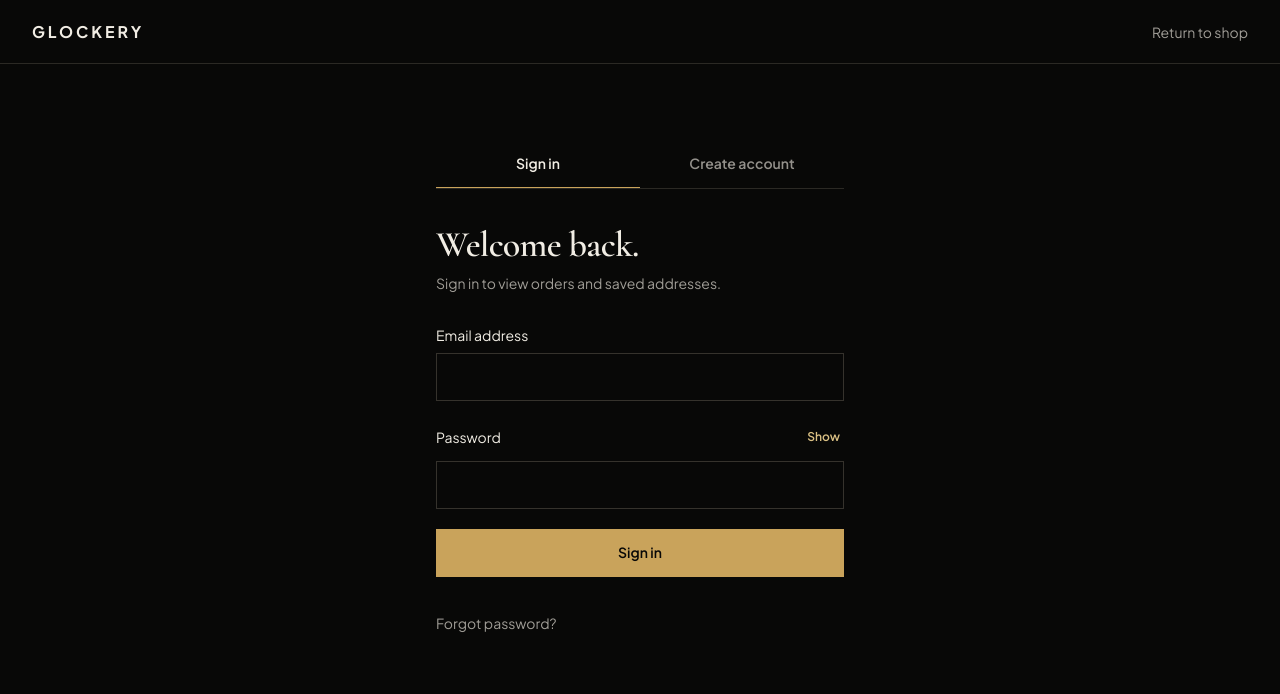
Test: black and gold commerce UI › switches between sign-in and account registration
What coordinates should you click on to do the following:
click the button with aria-label "Show password"
I would click on:
 (824, 436)
Its box is [803,420,844,452].
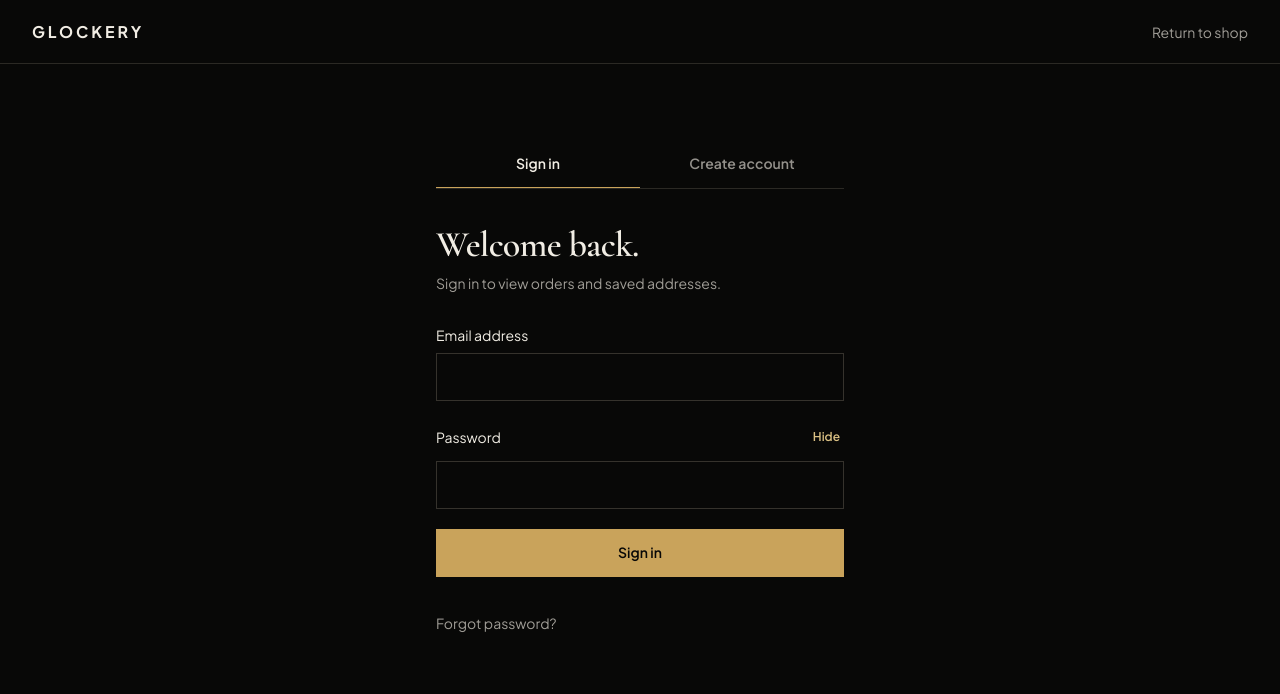
Expected: the button named "Show password" is shown, [809,420,844,452]
What coordinates should you click on to do the following:
click the button "Create account"
I would click on:
 (742, 164)
Its box is [640,140,844,188].
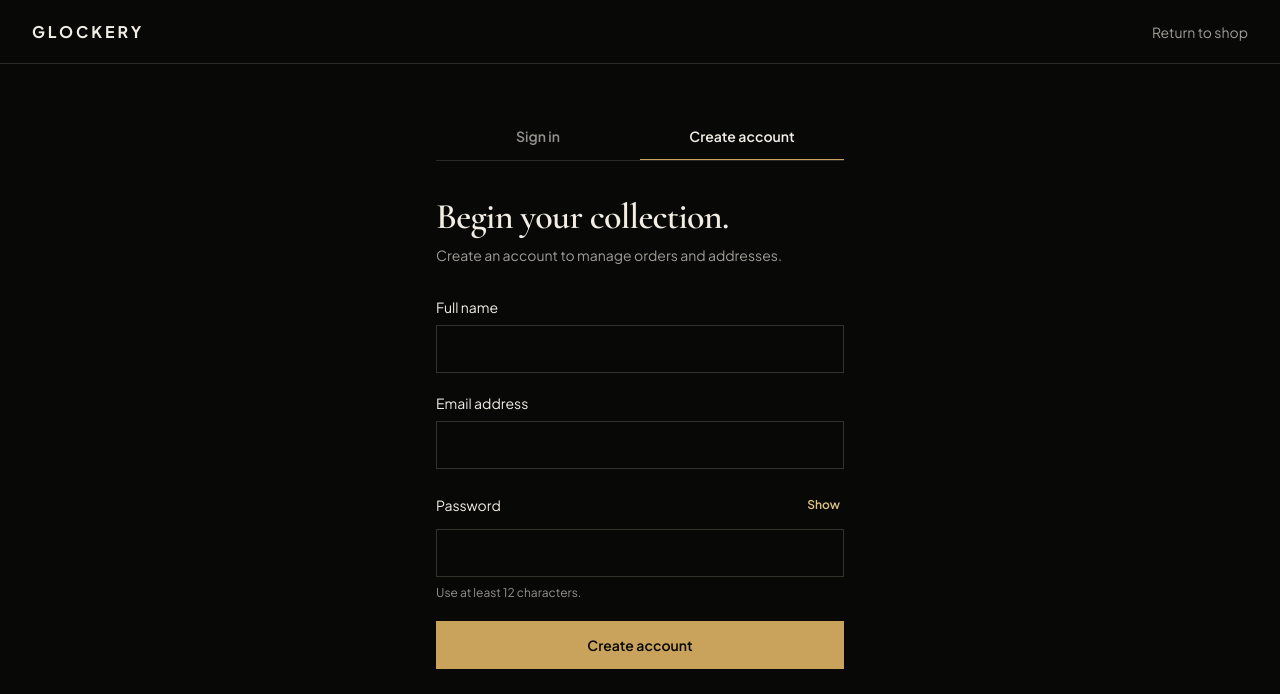
Expected: the text "Begin your collection." is shown, [436,195,729,238]
Expected: the field named "name" is shown, [436,325,844,373]
